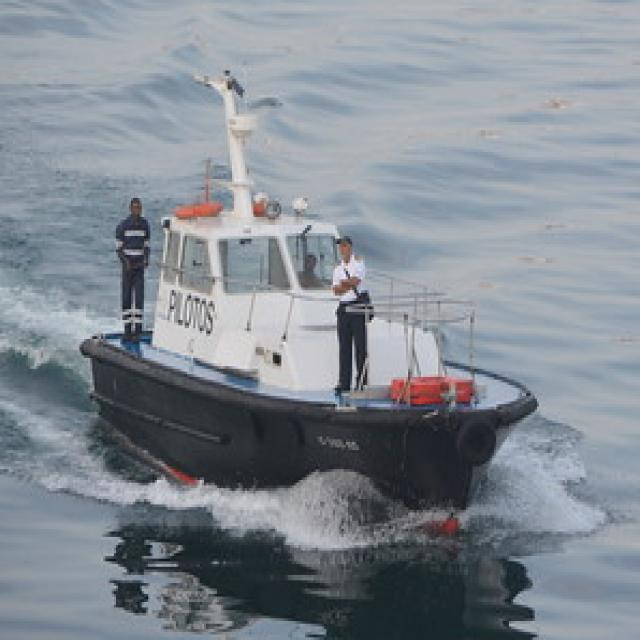houseboat: (82, 73, 538, 510)
